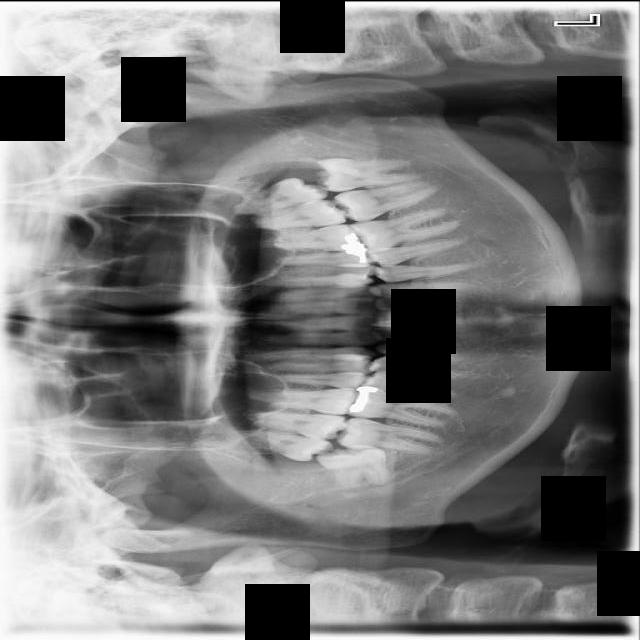3M ESPE Implant: (237, 426, 335, 465)
52: (347, 381, 392, 424), (319, 222, 368, 252), (334, 249, 373, 267)
73: (570, 22, 591, 26)
BioHorizons Implant: (248, 197, 349, 231)
BioLife Implant: (226, 170, 331, 218)
Biomet 3i Implant: (316, 157, 421, 192)
Blue Sky Bio Implant: (330, 176, 442, 225)
Caries: (243, 410, 348, 441)
Implant: (336, 414, 442, 455)
Keystone Dental Implant: (315, 439, 392, 491)
